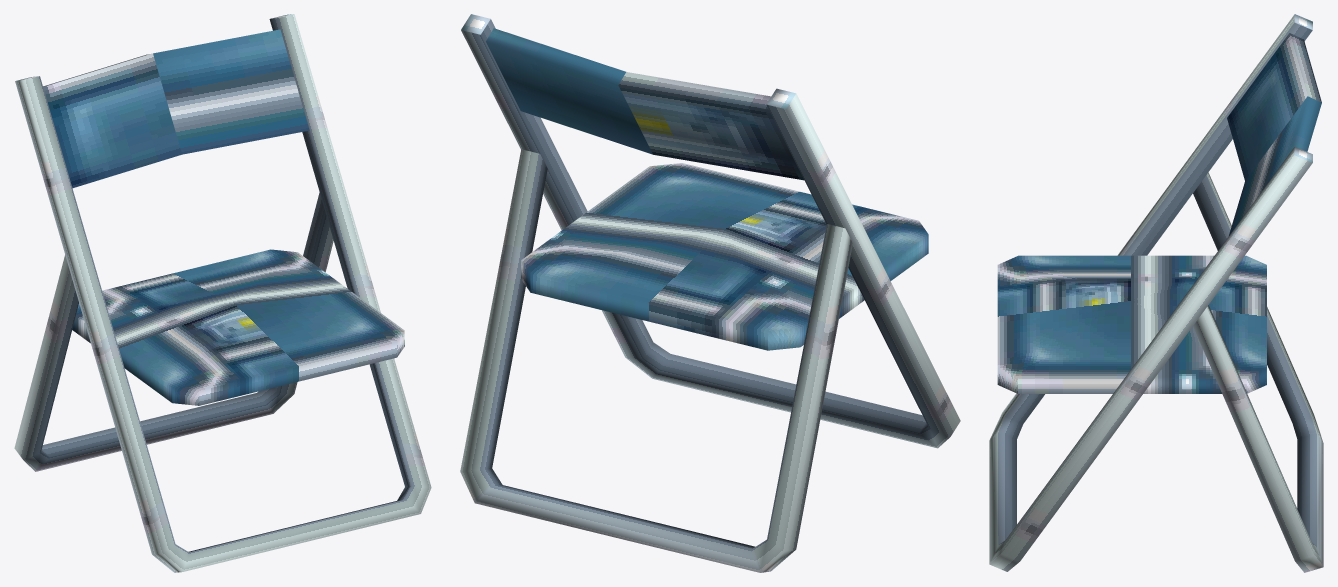
File: rmk_sch_pipe_chairS.dae
The picture shows the model from 3 angles, left to right: view 1: azimuth 30°, elevation 25°; view 2: azimuth 150°, elevation 25°; view 3: azimuth 270°, elevation 25°; orthographic projection. The views are drawn at different scales.
Visible parts, largest first — view 1: rmk_sch_pipe_chairS; view 2: rmk_sch_pipe_chairS; view 3: rmk_sch_pipe_chairS.
Part boxes in pixels (<box>): rmk_sch_pipe_chairS: <box>14,14,431,572</box>; rmk_sch_pipe_chairS: <box>460,14,960,572</box>; rmk_sch_pipe_chairS: <box>989,14,1323,572</box>.
Size of the model in its own units: 24.55 by 34.54 by 24.54.
Materials: 1 (1 with a texture image).
